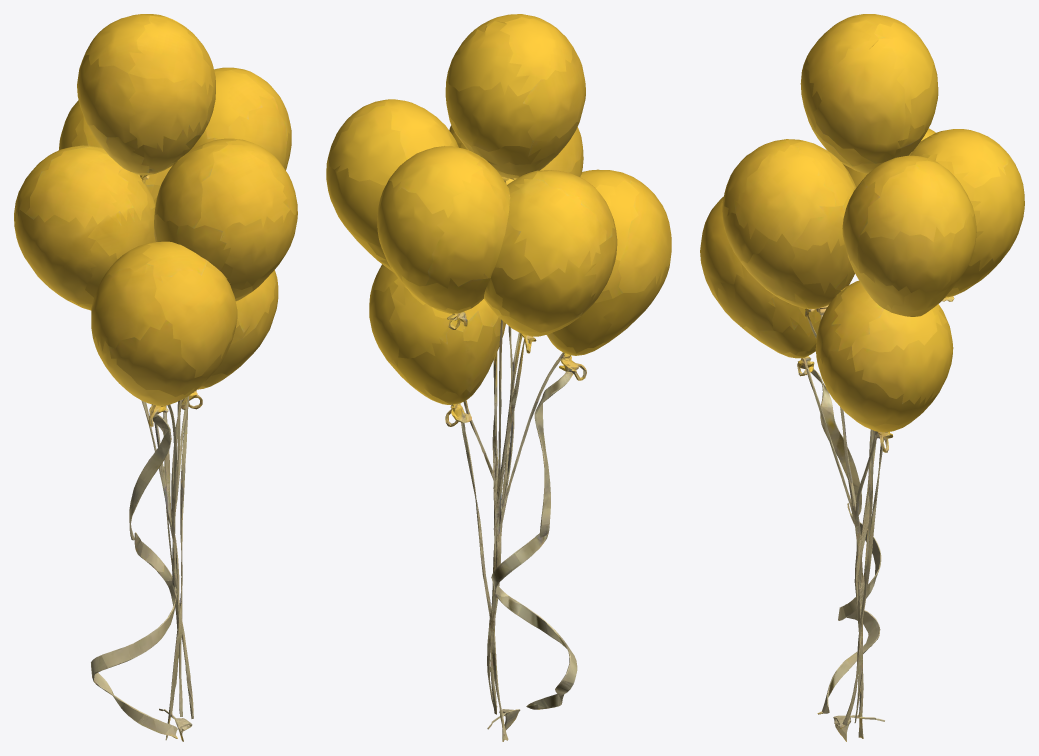
Rendered from balloons-gold.glb.
3 renders of one model, left to right at view 1: azimuth 30°, elevation 25°; view 2: azimuth 150°, elevation 25°; view 3: azimuth 270°, elevation 25°, orthographic. The views are drawn at different scales.
Size of the model in its own units: 0.3842 by 1 by 0.4142.
1 material, 1 textured.
